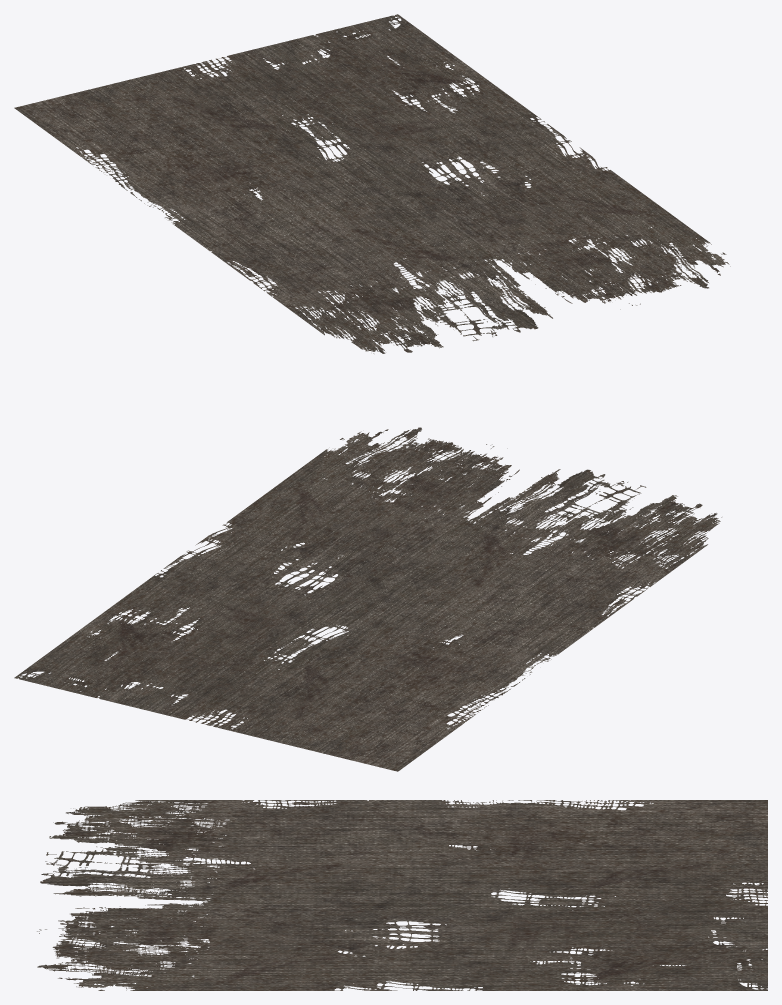
File: SM_Cloth.fbx
3 views of the same model, one above another, from view 1: azimuth 30°, elevation 25°; view 2: azimuth 150°, elevation 25°; view 3: azimuth 270°, elevation 25° (orthographic).
Visible parts, largest first — view 1: SM_Cloth; view 2: SM_Cloth; view 3: SM_Cloth.
Part boxes in pixels (box(x1,y1,x2,y2)): SM_Cloth: box(14, 14, 730, 353); SM_Cloth: box(14, 427, 721, 771); SM_Cloth: box(37, 800, 767, 990).
Size of the model in its own units: 120 by 200 by 0.000129.
